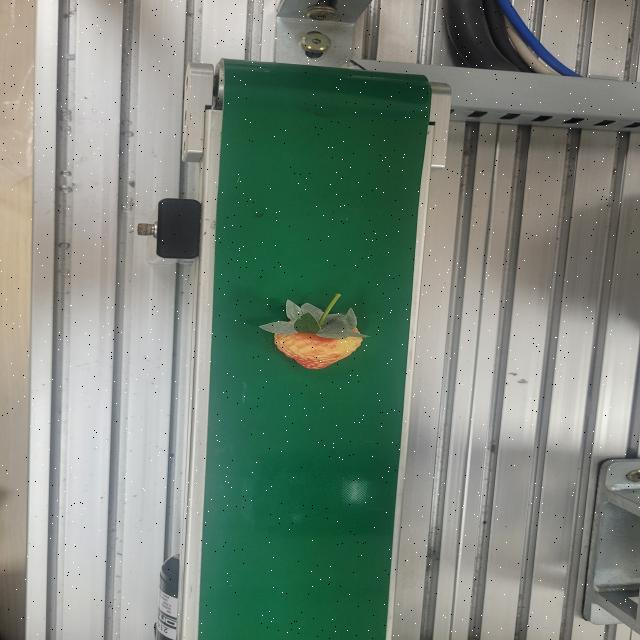Moldy Strawberry: (258, 292, 372, 370)
